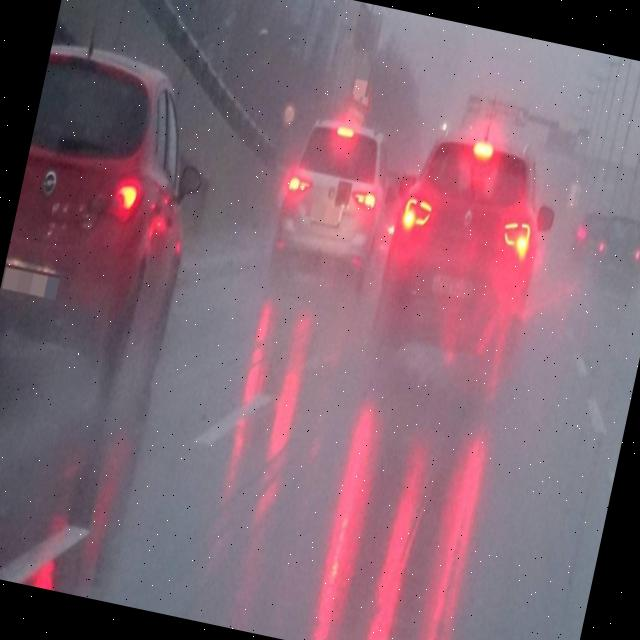car: (0, 37, 222, 358), (369, 120, 558, 353), (261, 106, 405, 298), (587, 212, 640, 295), (568, 208, 604, 266)
